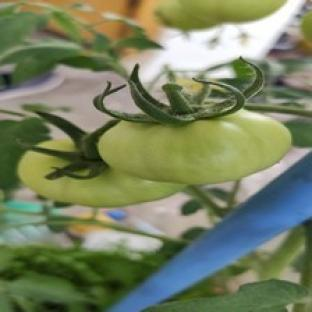Tomato: (98, 109, 291, 185), (19, 151, 183, 207), (300, 12, 311, 41)
